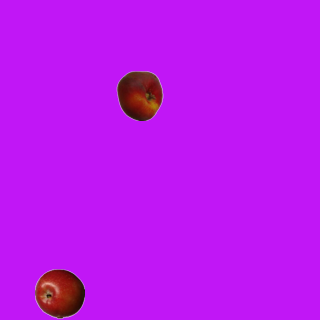Apple Braeburn: (34, 268, 84, 318)
Nectarine Flat: (114, 70, 164, 120)
